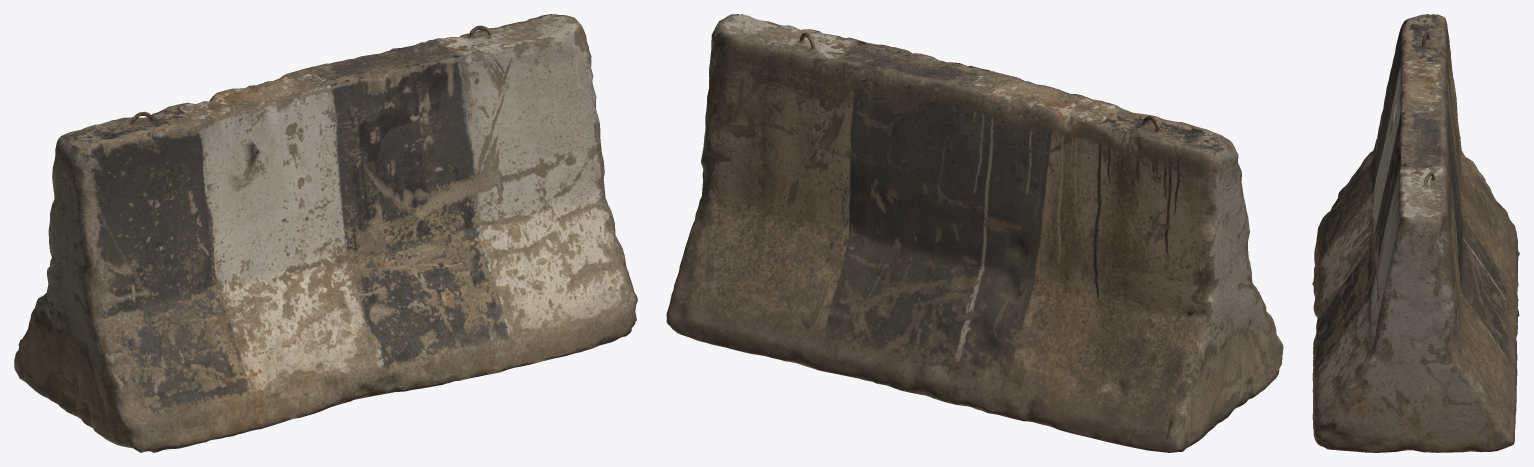
File: concrete_road_barrier.fbx
The picture shows the model from 3 angles, left to right: view 1: azimuth 30°, elevation 25°; view 2: azimuth 150°, elevation 25°; view 3: azimuth 270°, elevation 25°; orthographic projection. The views are drawn at different scales.
Parts seen in each view (by area): view 1: concrete_road_barrier; view 2: concrete_road_barrier; view 3: concrete_road_barrier.
Boxes of the visible parts, <box> form: concrete_road_barrier: <box>14,14,637,452</box>; concrete_road_barrier: <box>666,14,1283,452</box>; concrete_road_barrier: <box>1312,14,1519,452</box>.
Bounding box in the file's own units: 155 × 83.09 × 63.87.
Materials: 1 (1 with a texture image).
